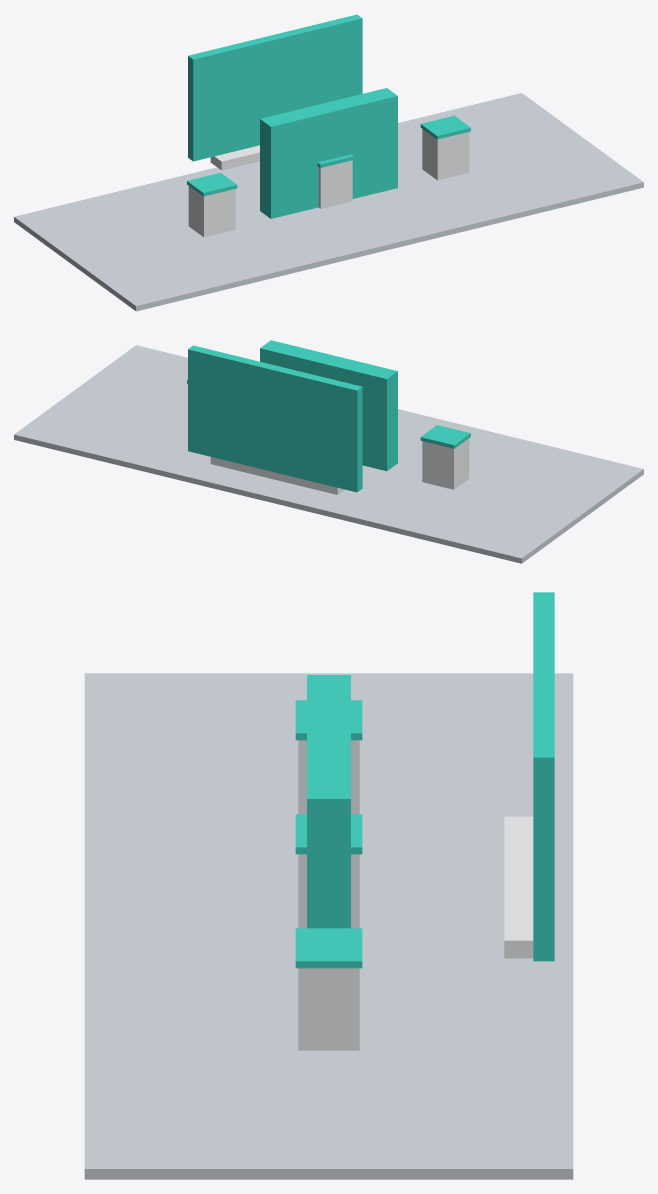
3 renders of one model, top to bottom at view 1: azimuth 30°, elevation 25°; view 2: azimuth 150°, elevation 25°; view 3: azimuth 270°, elevation 25°, orthographic. The views are drawn at different scales.
Visible parts, largest first — view 1: Exhibition Booth Concept; view 2: Exhibition Booth Concept; view 3: Exhibition Booth Concept.
Boxes of the visible parts, x1,y1,x2,y2 form: Exhibition Booth Concept: [14, 14, 643, 311]; Exhibition Booth Concept: [14, 340, 643, 563]; Exhibition Booth Concept: [84, 592, 573, 1179].
Size of the model in its own units: 12 by 2.9 by 5.
